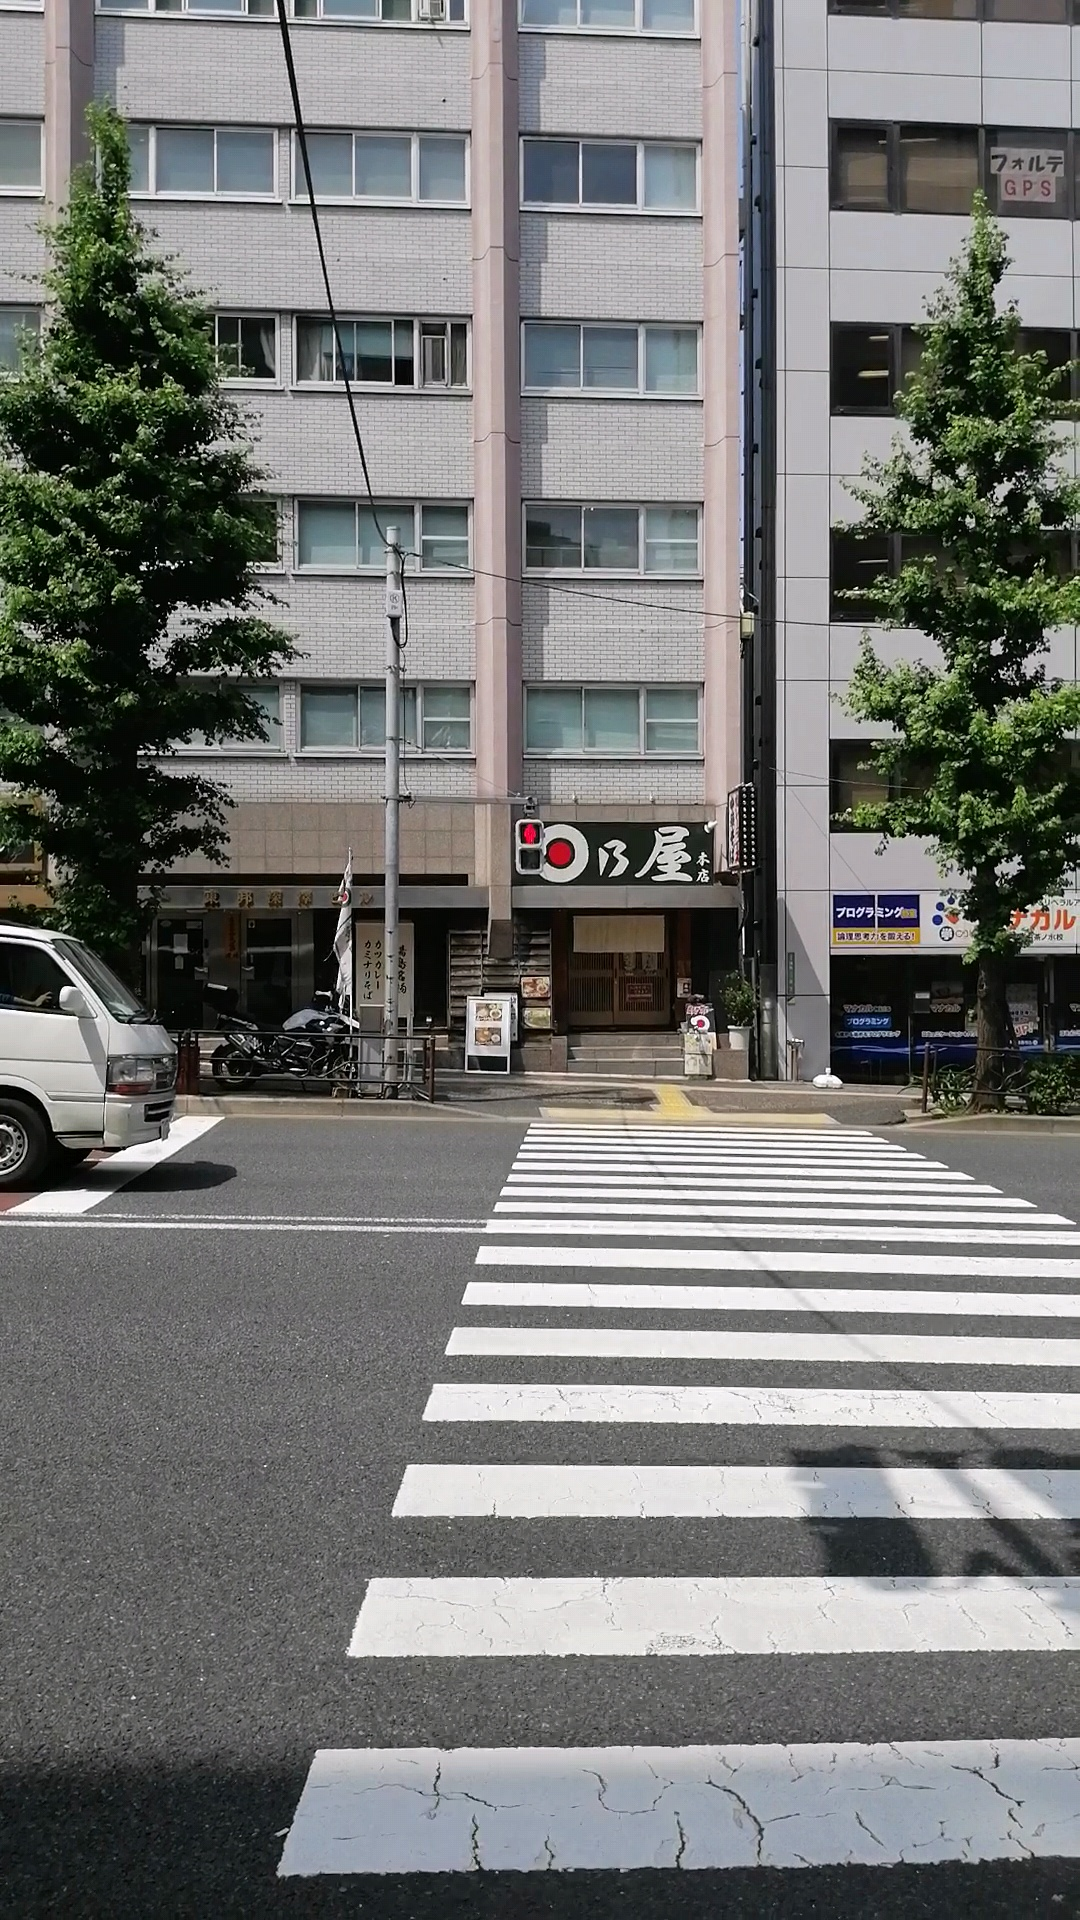red: (516, 818, 545, 873)
